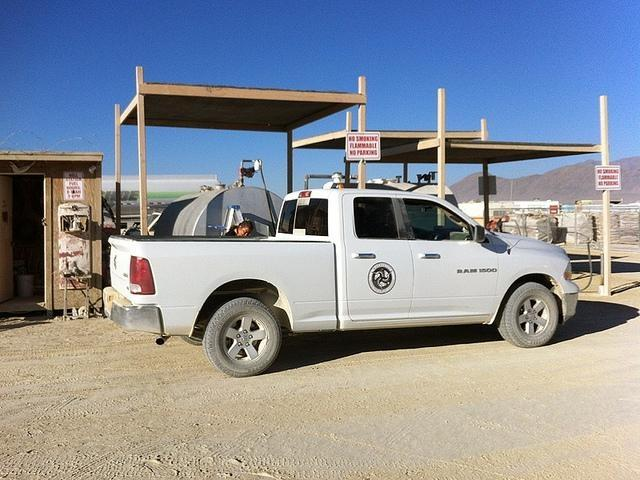truck: (102, 188, 581, 376)
